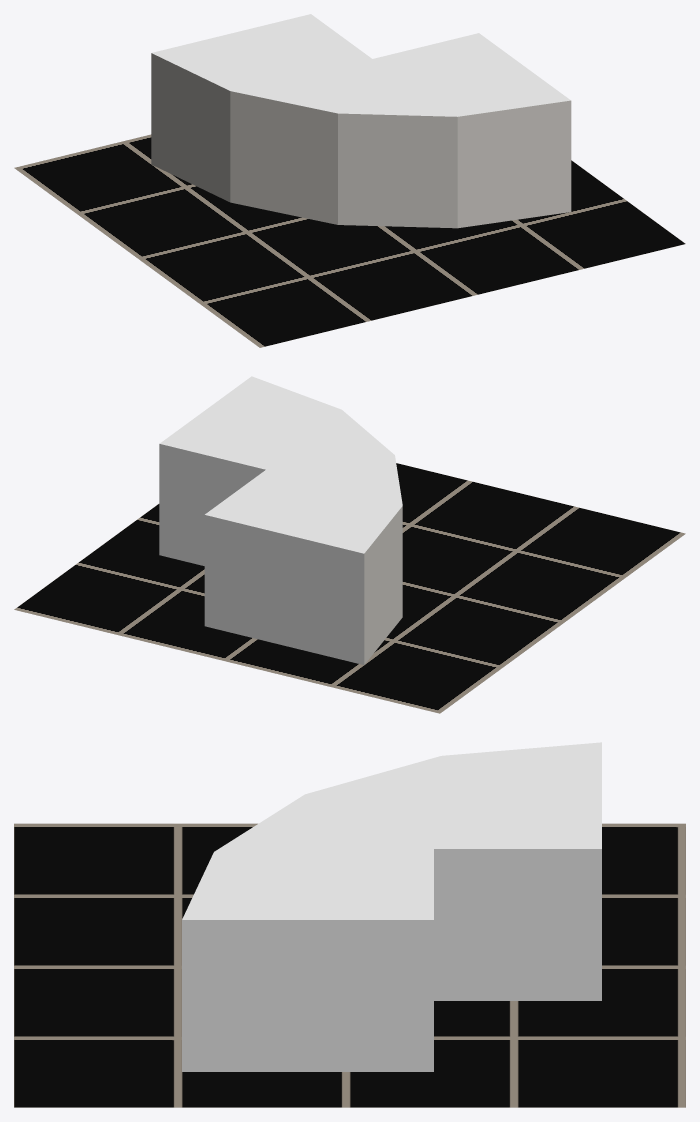
File: Basic_Curve_Outer_3x3_Mid.glb
3 renders of one model, top to bottom at view 1: azimuth 30°, elevation 25°; view 2: azimuth 150°, elevation 25°; view 3: azimuth 270°, elevation 25°, orthographic. The views are drawn at different scales.
Visible parts, largest first — view 1: Basic_Curve_Outer_3x3_Mid, Floor; view 2: Floor, Basic_Curve_Outer_3x3_Mid; view 3: Basic_Curve_Outer_3x3_Mid, Floor.
Boxes of the visible parts, bbox=[...] form: Basic_Curve_Outer_3x3_Mid: bbox=[151, 14, 571, 228]; Floor: bbox=[14, 134, 685, 347]; Floor: bbox=[14, 463, 685, 713]; Basic_Curve_Outer_3x3_Mid: bbox=[159, 376, 402, 664]; Basic_Curve_Outer_3x3_Mid: bbox=[182, 742, 601, 1071]; Floor: bbox=[14, 823, 685, 1107].
Size of the model in its own units: 400 by 100 by 400.
3 materials, 1 textured.
